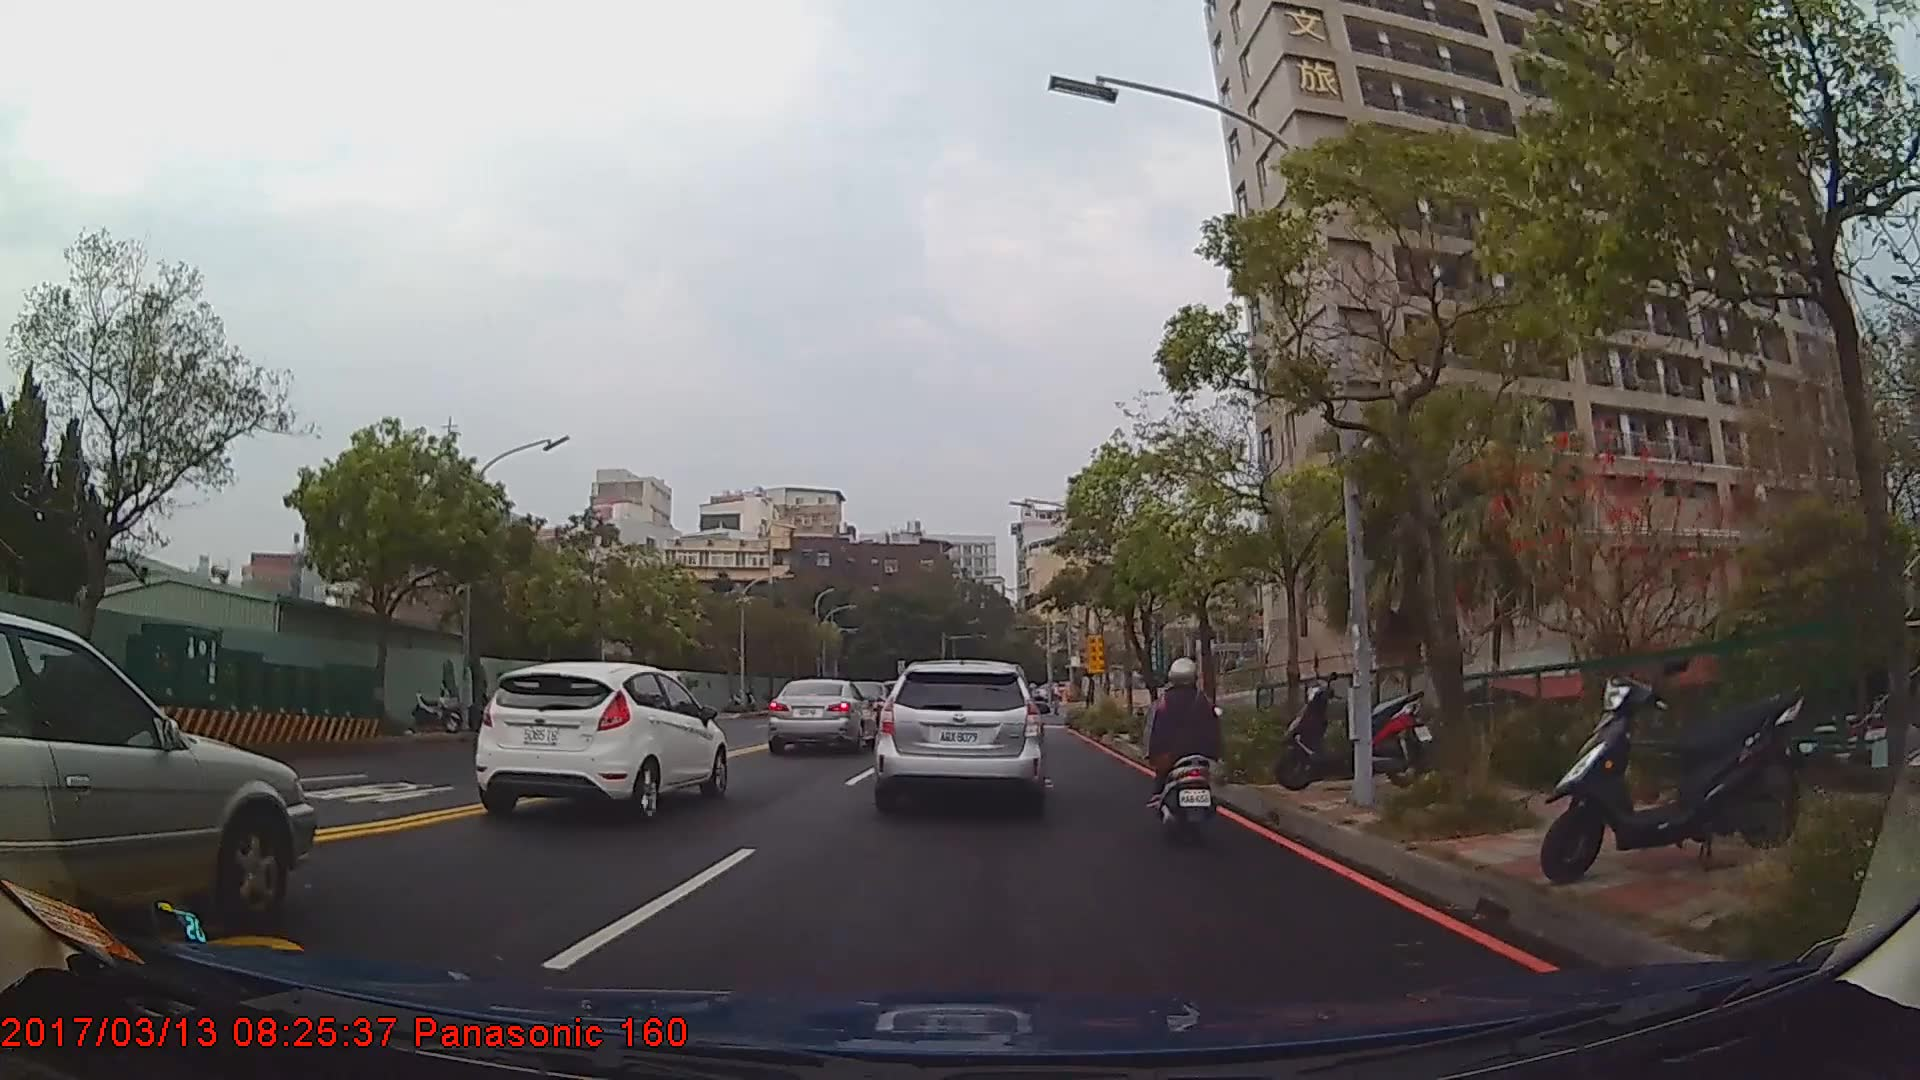rider: (1145, 659, 1219, 846)
vehicle: (0, 610, 313, 937), (473, 659, 726, 825), (874, 658, 1044, 816), (767, 677, 879, 754)
